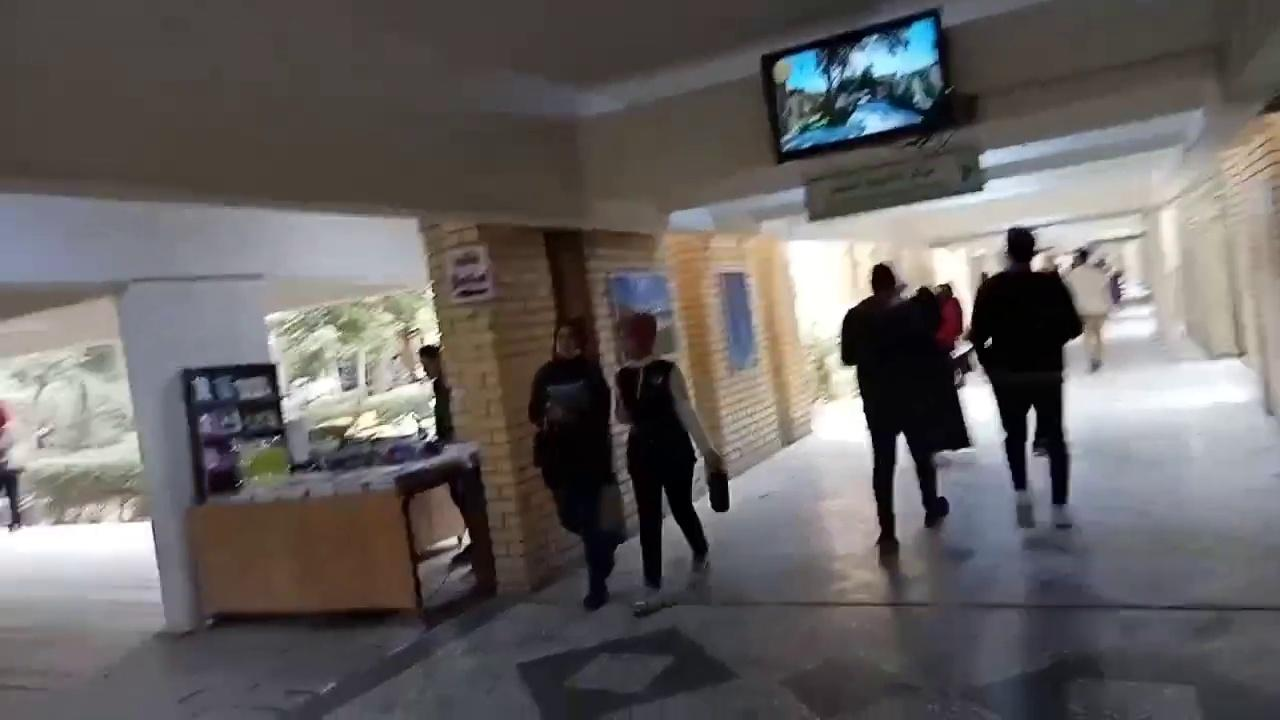person: (967, 226, 1084, 528), (840, 261, 952, 550), (612, 311, 727, 592), (527, 315, 626, 610), (416, 344, 497, 596), (1062, 246, 1123, 372), (0, 400, 23, 531)
tree: (0, 337, 149, 526), (265, 285, 440, 443)
